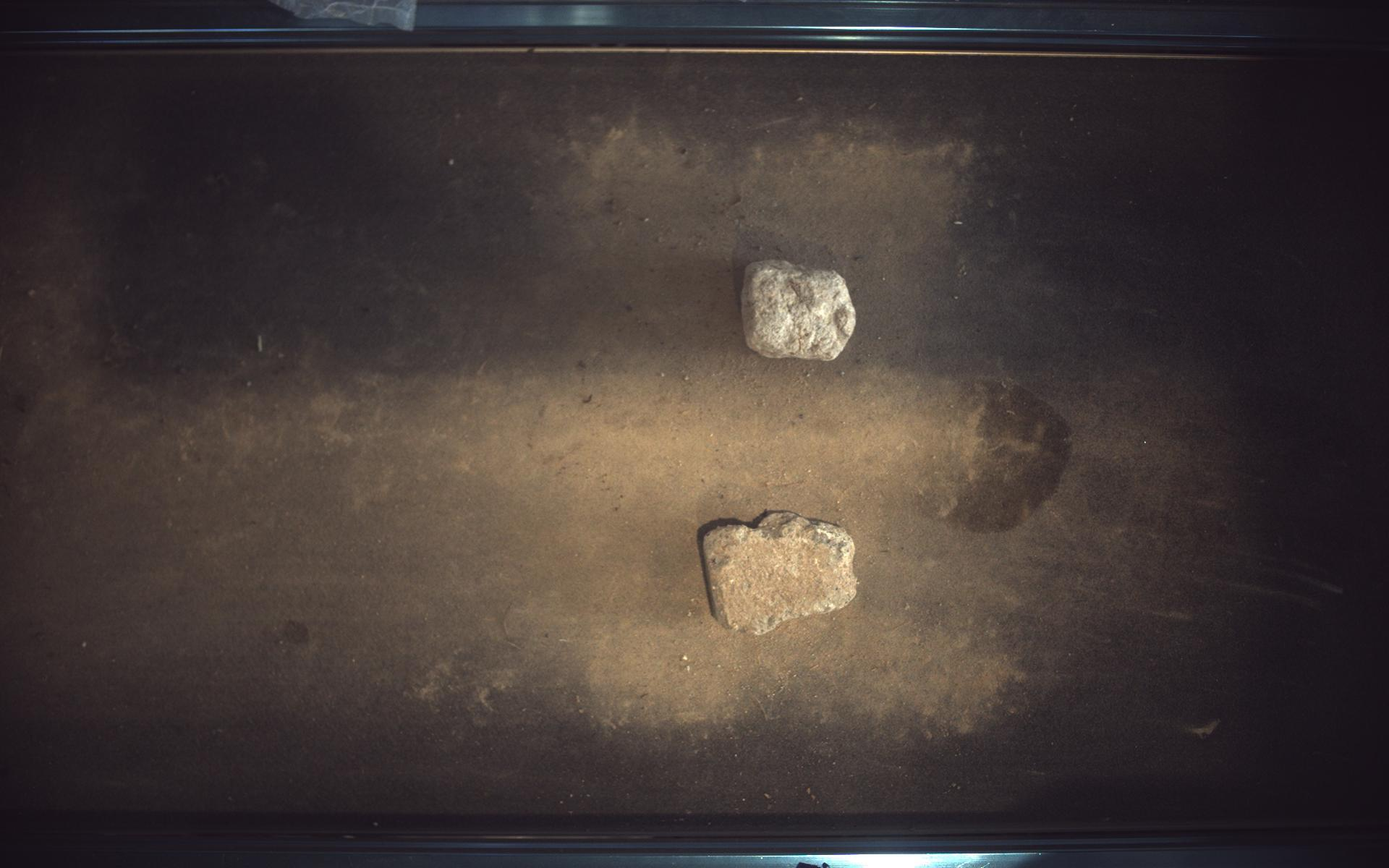stone: (703, 511, 859, 636), (742, 258, 857, 360)
